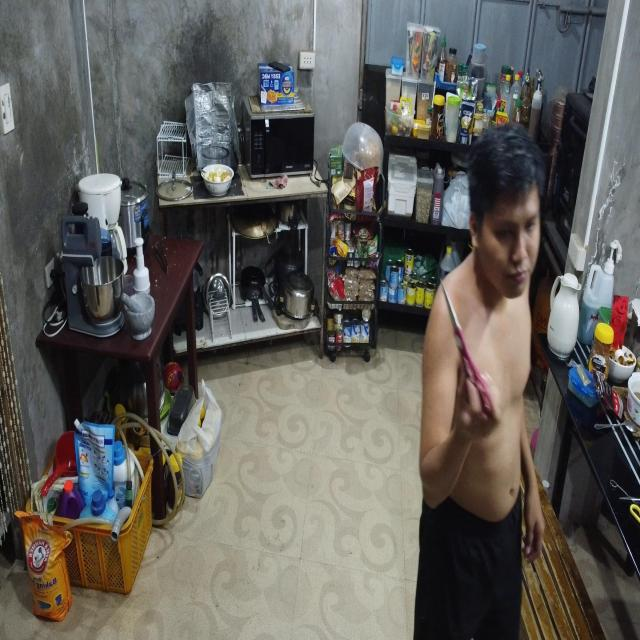scissor: (440, 278, 495, 419)
